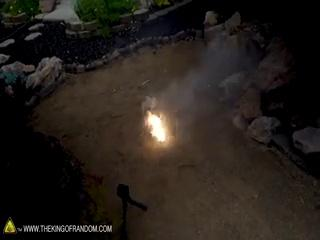Fire: (144, 114, 170, 143)
